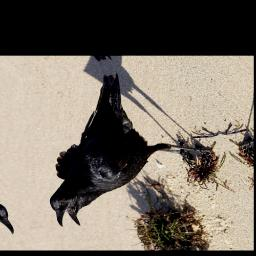Crow: (4, 63, 237, 230)
